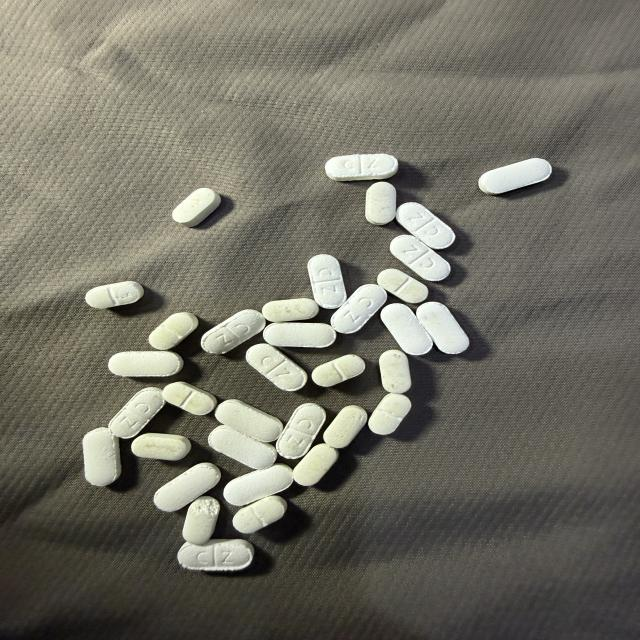pill: (154, 463, 220, 511), (209, 426, 277, 469), (246, 344, 307, 391), (224, 464, 292, 506), (215, 400, 282, 442), (109, 387, 164, 438), (201, 310, 265, 353), (331, 284, 387, 333), (276, 403, 325, 459), (396, 203, 455, 249), (417, 302, 469, 354), (390, 236, 450, 281), (381, 304, 432, 355), (479, 158, 551, 194), (178, 539, 253, 571), (83, 428, 121, 486), (233, 496, 287, 534), (308, 255, 346, 308), (326, 154, 398, 181), (293, 444, 338, 486), (108, 351, 183, 376), (173, 188, 221, 227), (323, 406, 367, 448), (163, 382, 217, 415), (183, 497, 220, 545), (149, 313, 198, 349), (263, 323, 336, 347), (378, 269, 428, 303), (369, 394, 411, 434), (312, 355, 365, 386), (132, 433, 191, 460), (86, 281, 143, 308), (379, 350, 411, 393), (262, 298, 318, 322), (366, 182, 396, 225)
